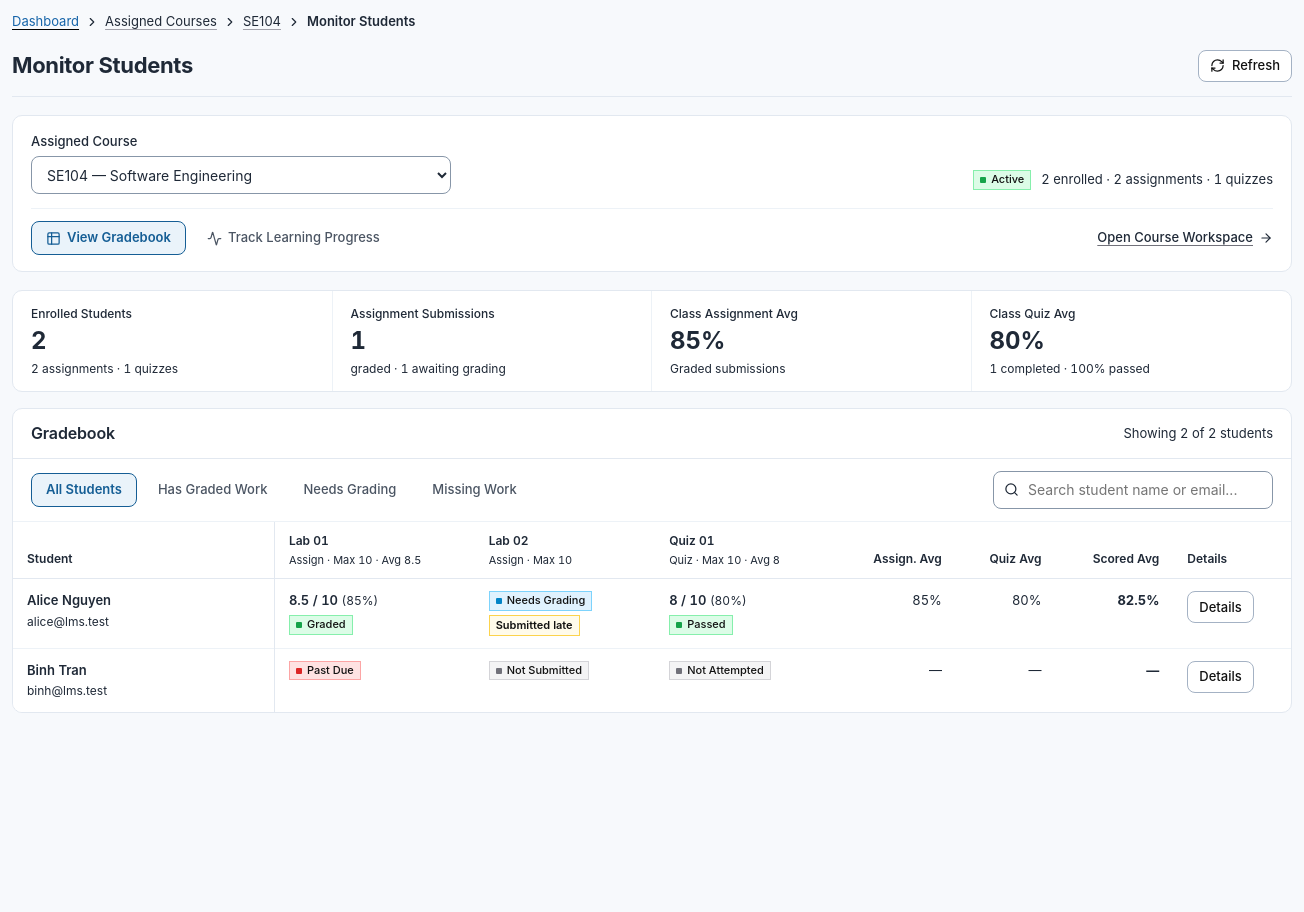
Test: I06: Instructor Monitor Students › 5.1 loads Gradebook with real scores, ungraded badges, and student search filtering
expect the text "8.5 / 10 (85%)" is shown: met, box [289,592,378,611]
expect the text "Needs Grading" is shown: met, box [507,594,585,608]
In the search field named "Search students in gradebook": (1133, 490) [993,471,1273,509], type "binh"
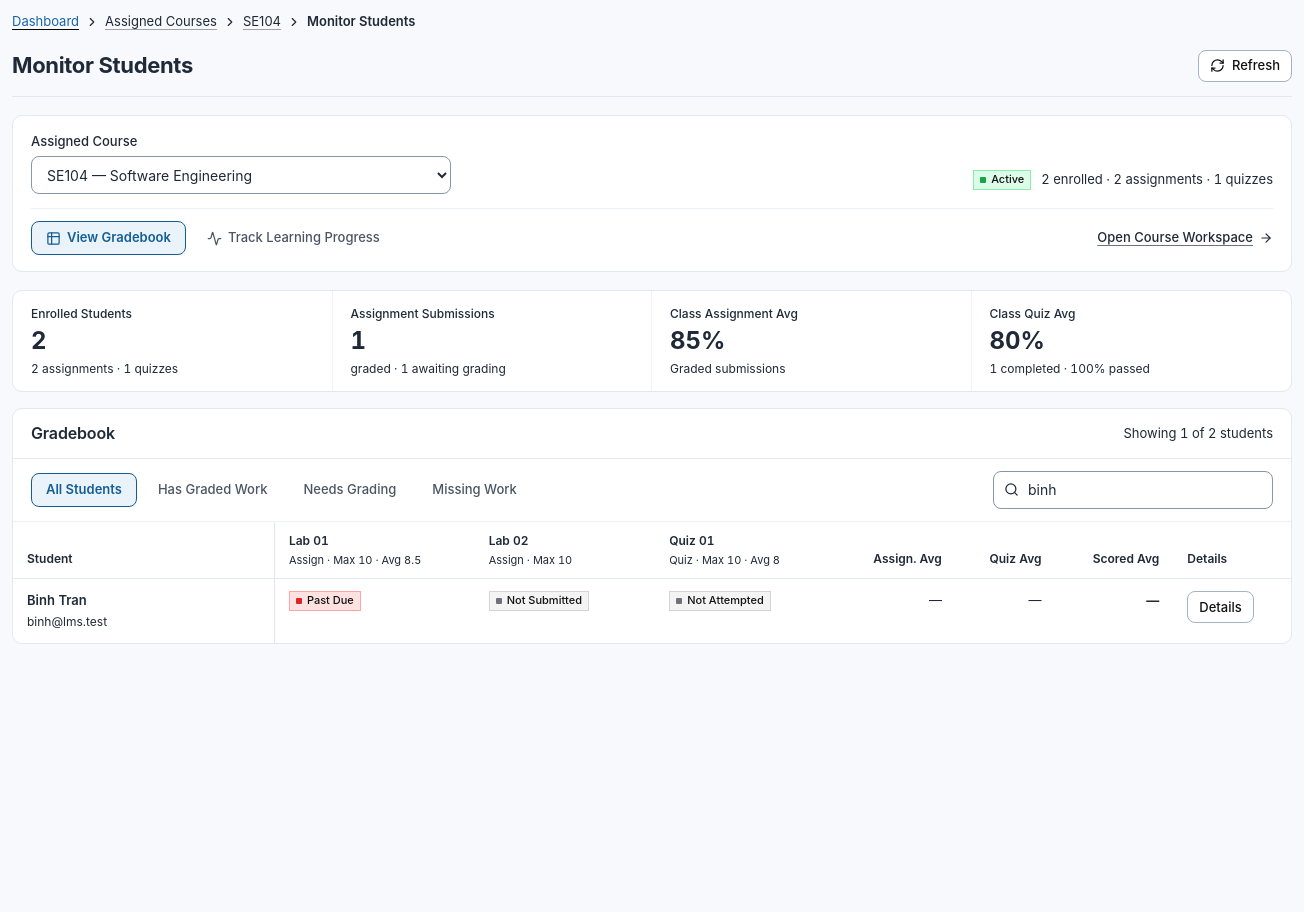
expect the text "Binh Tran" is shown: met, box [27,592,87,608]
expect the text "Alice Nguyen" is gone: met
Replace the text in the search field named "Search students in gradebook" with "nobody": (1133, 490) [993,471,1273,509]
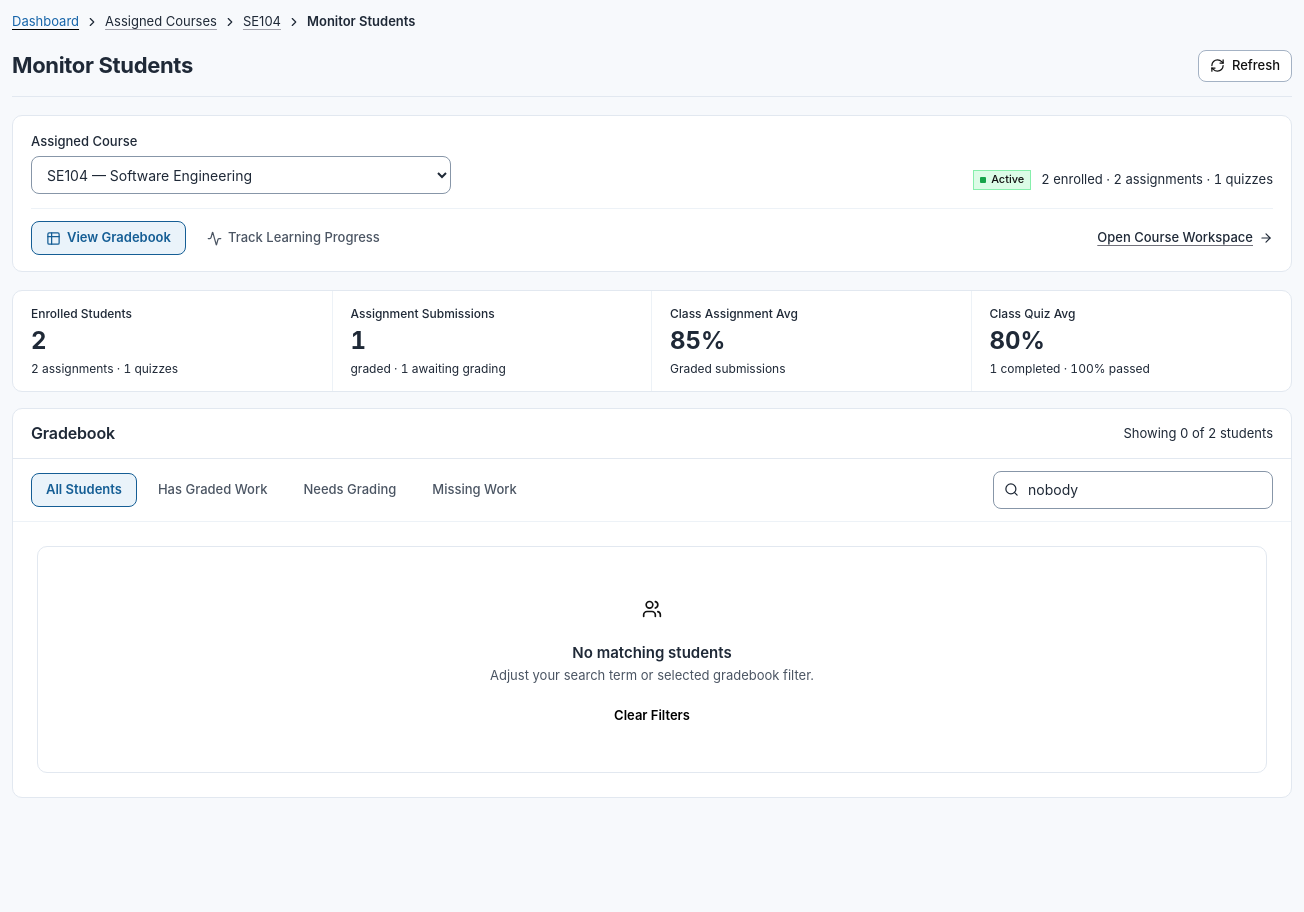
expect the heading "No matching students" is shown: met, box [572,643,732,662]
Click the button "Clear Filters": (652, 716) [603,700,701,732]
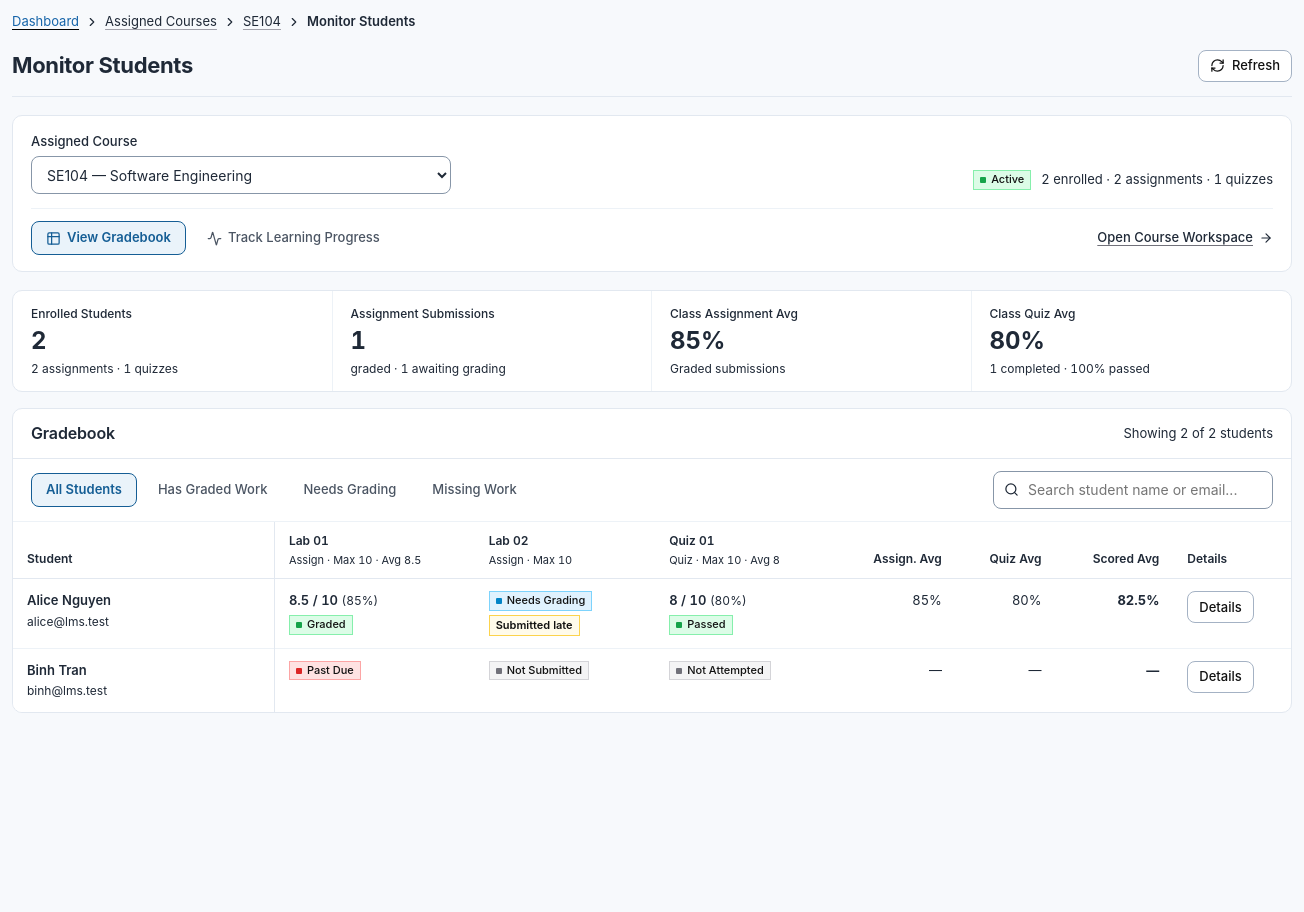
expect the text "Alice Nguyen" is shown: met, box [27,592,111,608]
